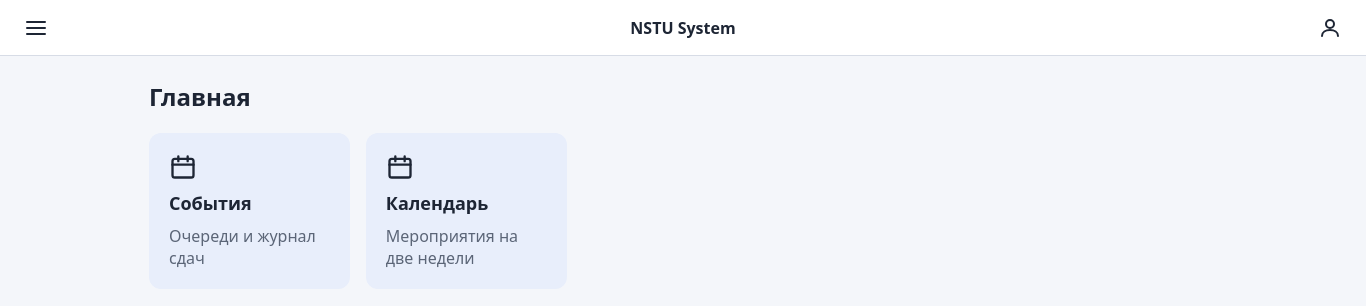
Test case: оболочка интерфейса и иконка пользователя › иконка гостя показывает мини-инфо «Вы вошли как гость»
Expected: the list with test id "module-grid" is shown, [149,133,567,289]
Click the button named "Пользователь". click: {"x": 1330, "y": 28}
box: [1310,8,1350,48]
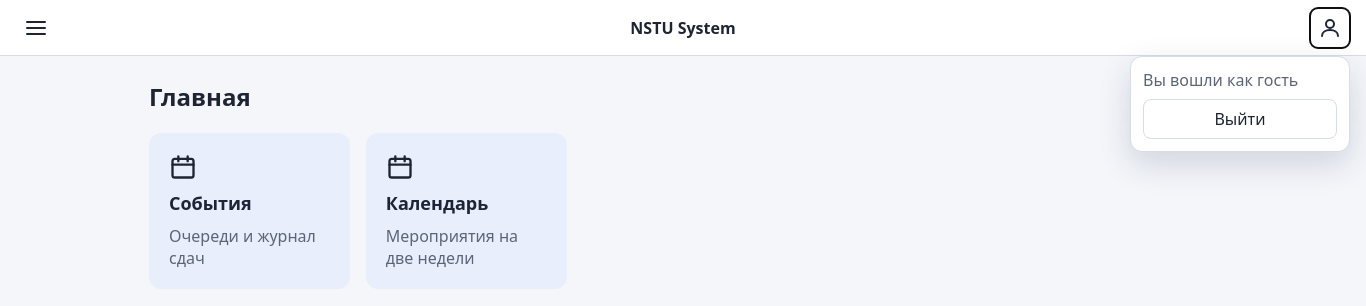
Now the text "Вы вошли как гость" is shown, box [1143,68,1298,90]
